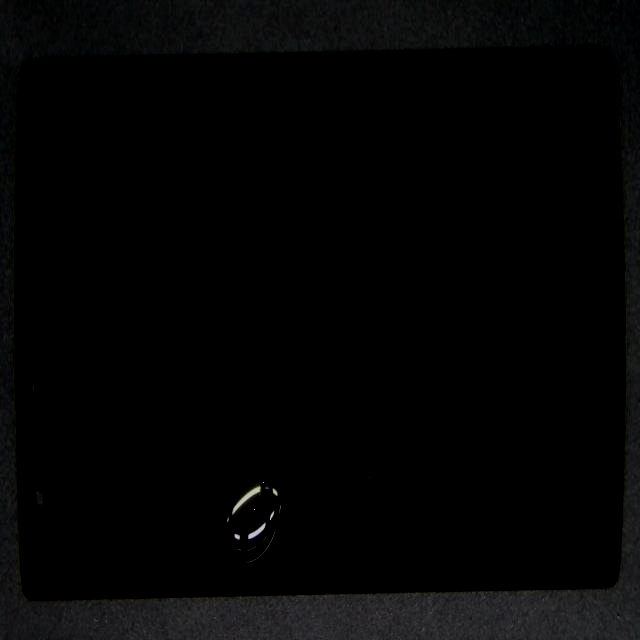oil: (109, 256, 327, 640)
